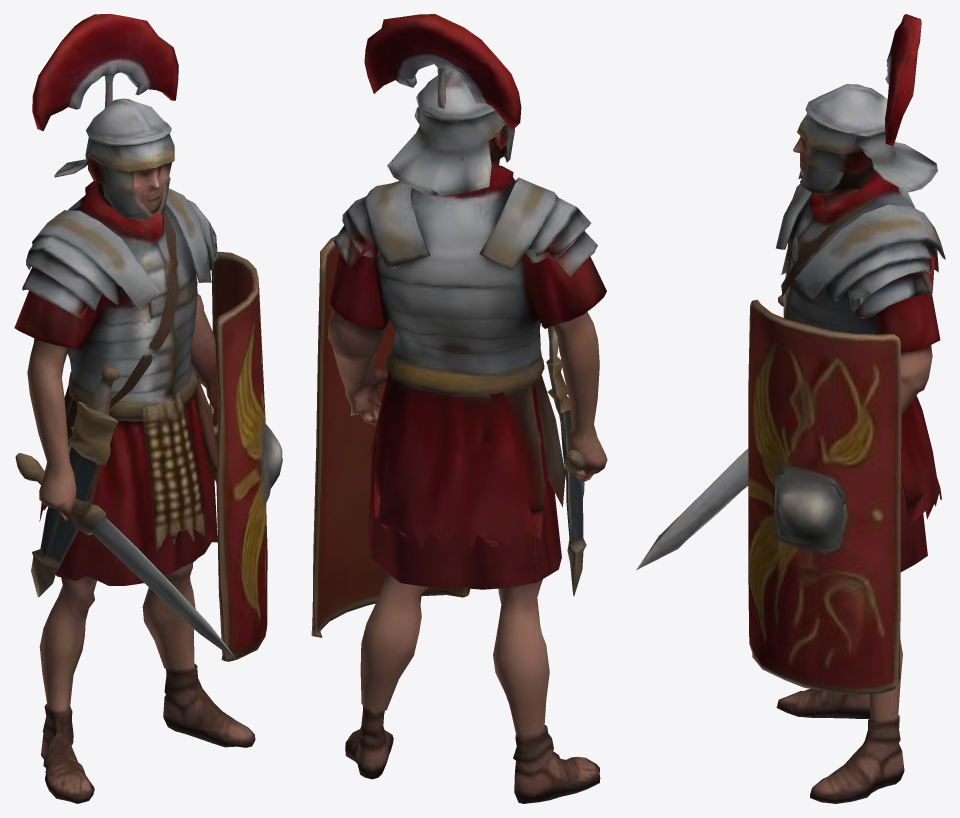
The model's file is warrior_roman_legionary.glb.
3 views of the same model, side by side, from view 1: azimuth 30°, elevation 25°; view 2: azimuth 150°, elevation 25°; view 3: azimuth 270°, elevation 25° (orthographic). The views are drawn at different scales.
Parts seen in each view (by area): view 1: warrior_roman_legionary; view 2: warrior_roman_legionary; view 3: warrior_roman_legionary.
Part boxes in pixels (x1,y1,x2,y2): warrior_roman_legionary: (14,14,282,803); warrior_roman_legionary: (311,14,607,803); warrior_roman_legionary: (636,14,945,803).
Size of the model in its own units: 0.1782 by 0.5024 by 0.1938.
Materials: 1 (1 with a texture image).
